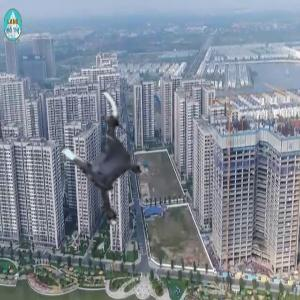drone: (43, 93, 165, 215)
